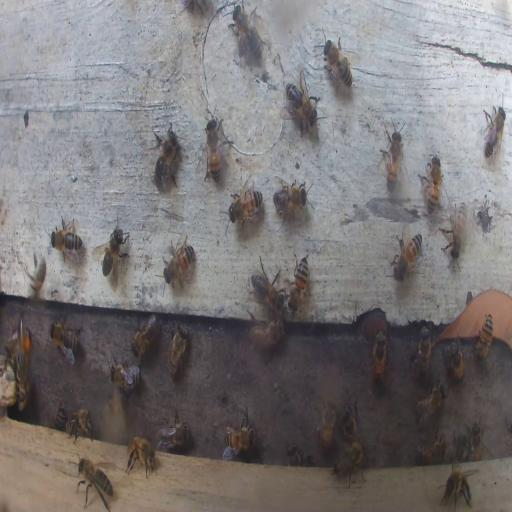bee: (282, 71, 323, 130), (96, 216, 130, 286), (76, 456, 114, 508), (232, 4, 265, 62), (163, 234, 196, 291), (322, 34, 355, 91), (152, 125, 180, 192), (380, 117, 404, 191), (250, 260, 285, 310), (438, 461, 473, 511), (390, 231, 422, 284), (49, 214, 84, 262), (330, 442, 366, 488), (272, 178, 311, 219), (442, 200, 468, 260), (481, 104, 506, 166), (228, 184, 263, 226), (50, 319, 81, 365), (414, 381, 446, 425), (204, 112, 223, 184), (409, 324, 433, 380), (222, 413, 254, 454), (125, 436, 156, 478), (420, 158, 443, 213), (167, 323, 190, 375), (290, 254, 310, 312), (156, 414, 188, 450), (132, 316, 160, 357), (247, 318, 283, 348), (110, 355, 140, 391), (317, 399, 337, 451), (12, 314, 30, 370), (66, 409, 93, 444), (27, 253, 46, 301), (371, 331, 387, 386), (416, 436, 446, 464), (444, 340, 464, 382), (476, 314, 493, 361), (14, 354, 28, 409), (340, 402, 359, 442), (468, 418, 485, 460), (286, 446, 309, 466), (454, 432, 469, 456), (55, 406, 68, 430)
